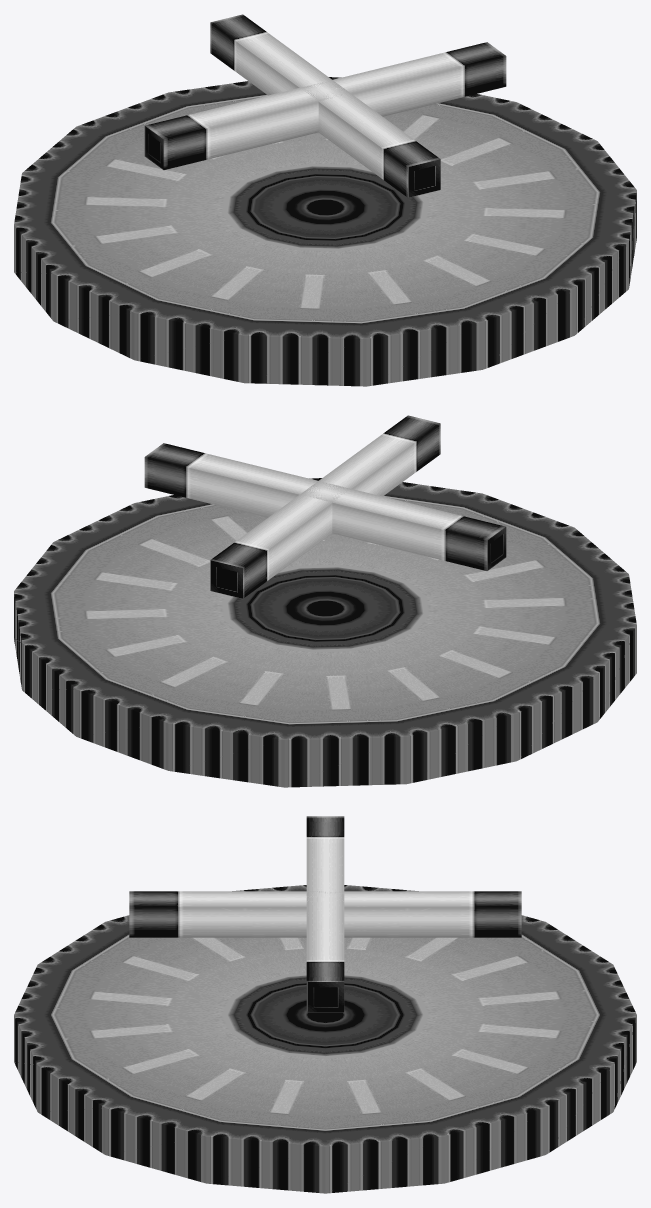
File: luigi_course-gear_black.glb
3 renders of one model, top to bottom at view 1: azimuth 30°, elevation 25°; view 2: azimuth 150°, elevation 25°; view 3: azimuth 270°, elevation 25°, orthographic.
Visible parts, largest first — view 1: gear_black; view 2: gear_black; view 3: gear_black.
Boxes of the visible parts, <box> form: gear_black: <box>14,14,636,386</box>; gear_black: <box>14,415,636,787</box>; gear_black: <box>14,816,636,1193</box>.
Bounding box in the file's own units: 37.5 × 10.81 × 37.5.
Materials: 1 (1 with a texture image).
